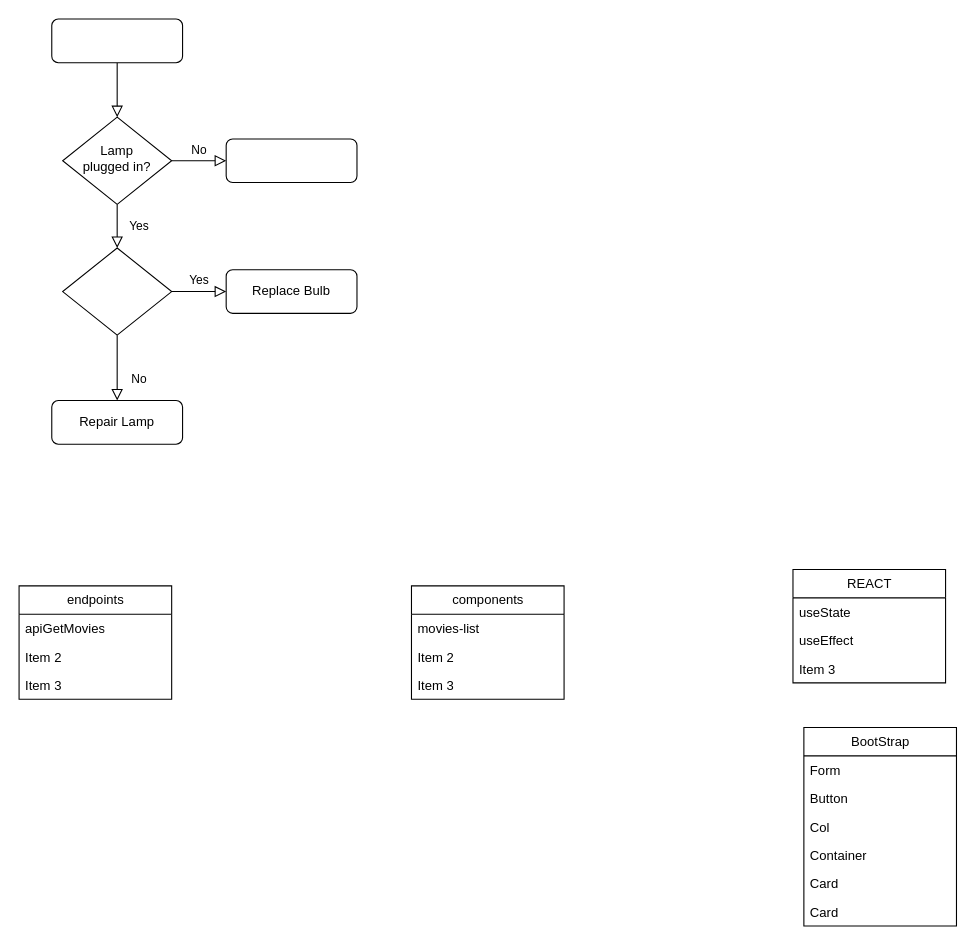
Some shapes in this 976 by 948 pixel diagram are drawn without their labels. The shapes that lost their labels are listed below. From the top down, each one's centre as x and y in pixels, then its label:
point 117,40: Lamp doesn't work
point 291,160: Plug in lamp
point 117,291: Bulb burned out?
